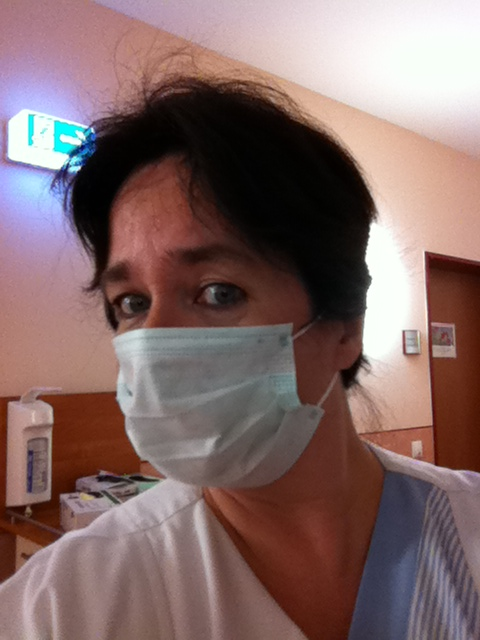mask: (110, 331, 319, 494)
